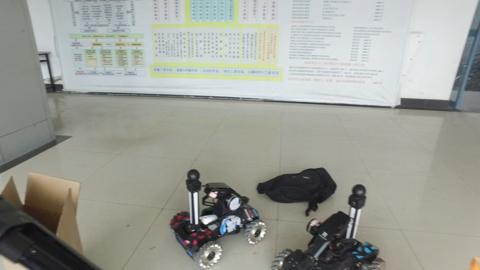bag: (256, 164, 335, 214)
chariot: (170, 166, 268, 266), (276, 184, 391, 269)
